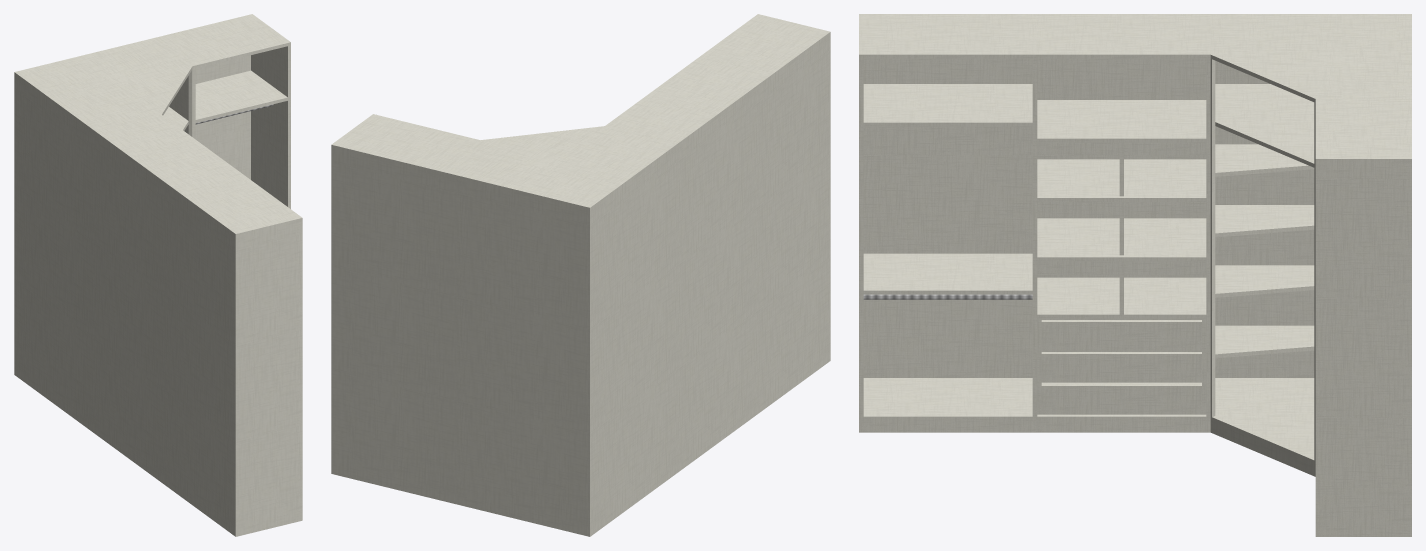
The model's file is mueble_destacado.glb.
The picture shows the model from 3 angles, left to right: view 1: azimuth 30°, elevation 25°; view 2: azimuth 150°, elevation 25°; view 3: azimuth 270°, elevation 25°; orthographic projection. The views are drawn at different scales.
Parts seen in each view (by area): view 1: Material2; view 2: Material2; view 3: Material2 (×2).
Boxes of the visible parts, left/top/right/bottom form: Material2: left=14, top=14, right=302, bottom=536; Material2: left=331, top=14, right=830, bottom=536; Material2 (×2): left=859, top=14, right=1411, bottom=536.
Size of the model in its own units: 76.44 by 92.91 by 123.
2 materials, 2 textured.
